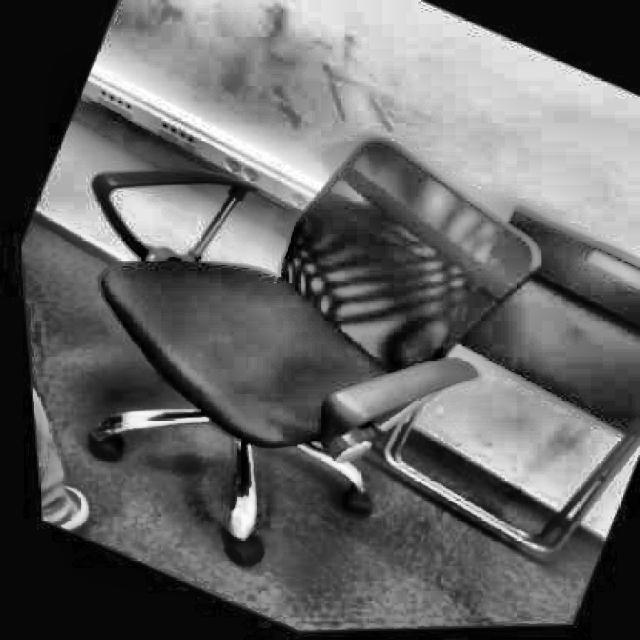cadeira: (2, 17, 622, 638)
